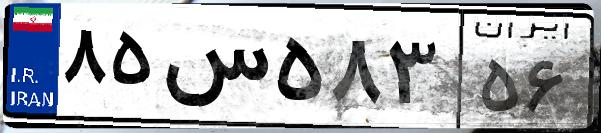3: (385, 28, 445, 110)
5: (270, 28, 330, 110), (475, 38, 525, 113), (110, 28, 158, 98)
6: (525, 38, 570, 115)
8: (330, 28, 385, 110), (57, 26, 110, 100)
س: (158, 20, 270, 120)
